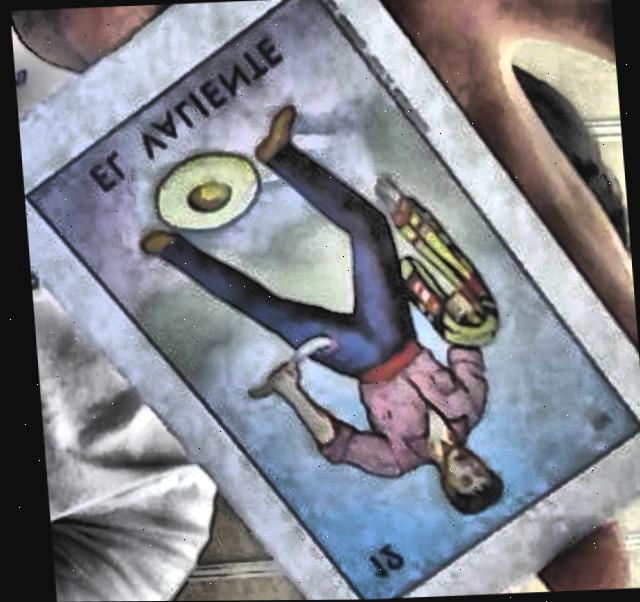El Valiente: (23, 0, 638, 600)
